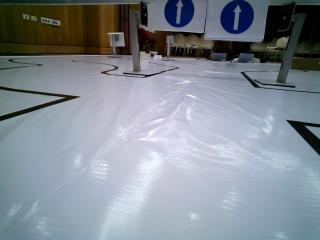straight: (209, 0, 265, 40), (146, 0, 204, 33)
